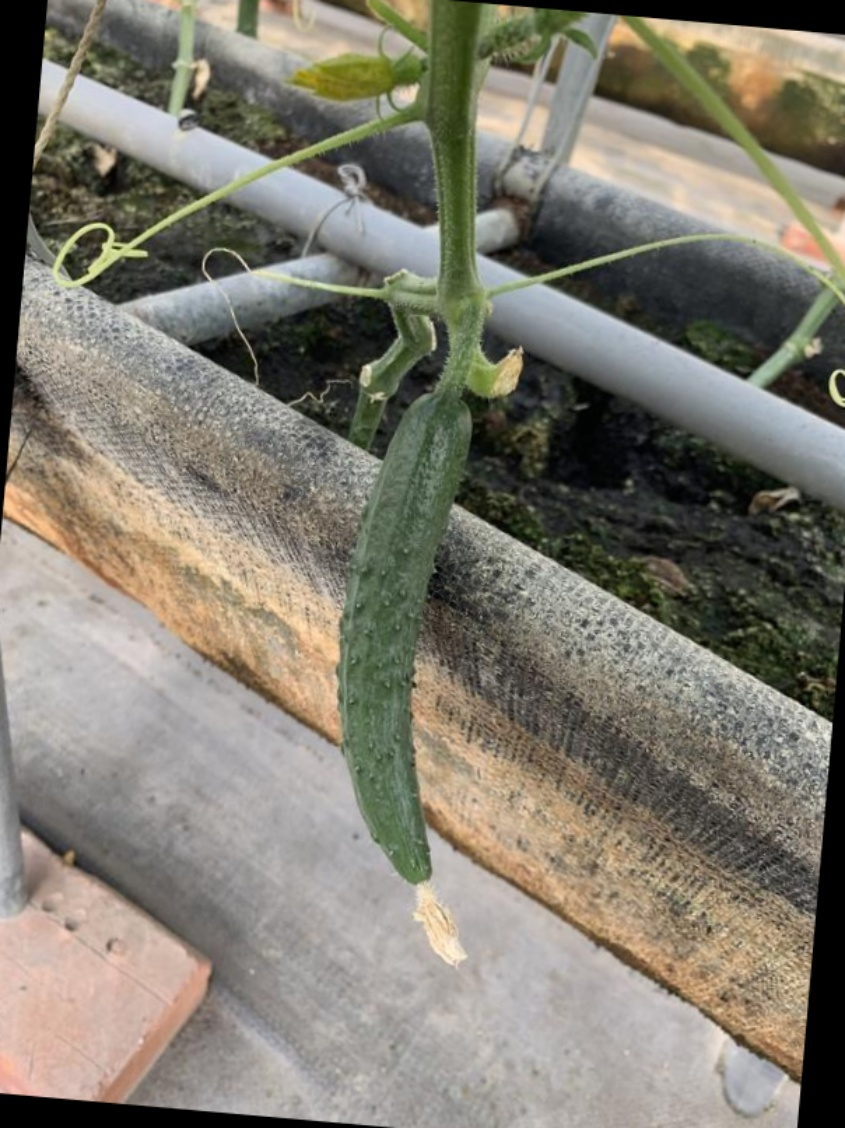growth: (312, 378, 494, 967)
